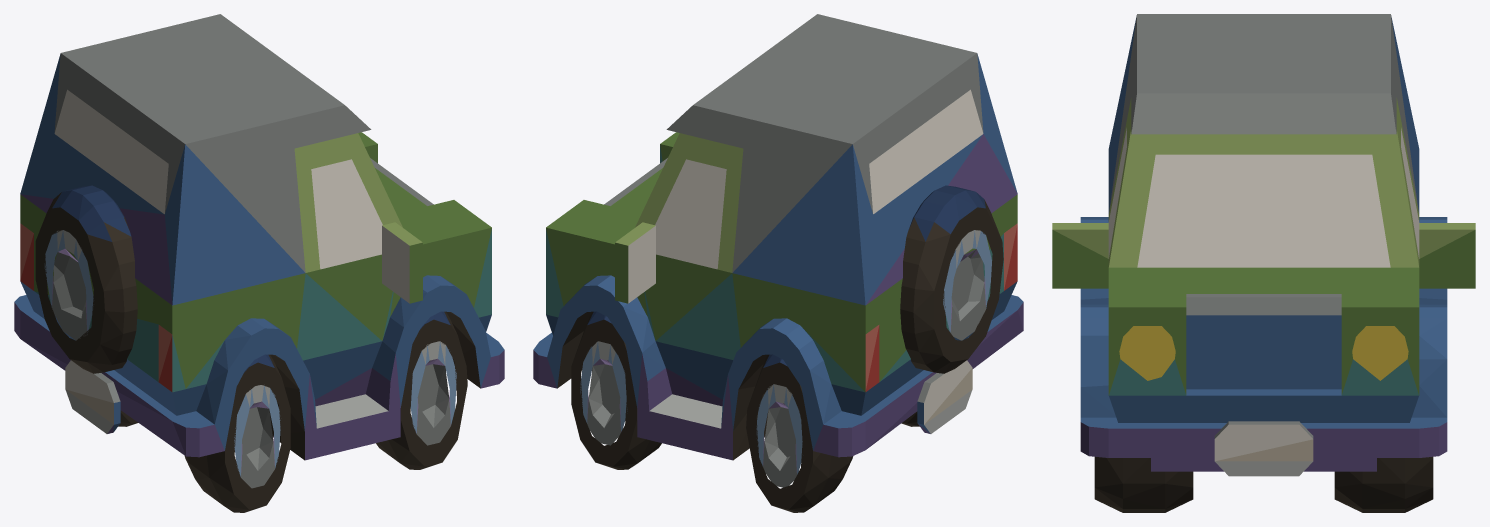
Rendered from suv.glb.
3 views of the same model, side by side, from view 1: azimuth 30°, elevation 25°; view 2: azimuth 150°, elevation 25°; view 3: azimuth 270°, elevation 25° (orthographic).
Bounding box in the file's own units: 1 × 1 × 1.
